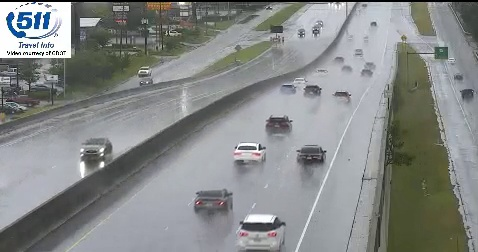car: (237, 215, 286, 252), (194, 189, 233, 212), (233, 143, 265, 163), (297, 144, 325, 164), (266, 116, 291, 135), (303, 85, 322, 99), (333, 90, 351, 103), (280, 83, 294, 94), (293, 78, 307, 88)
